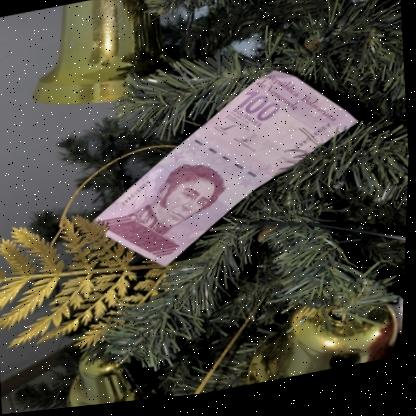vef_front: (80, 60, 372, 286)
